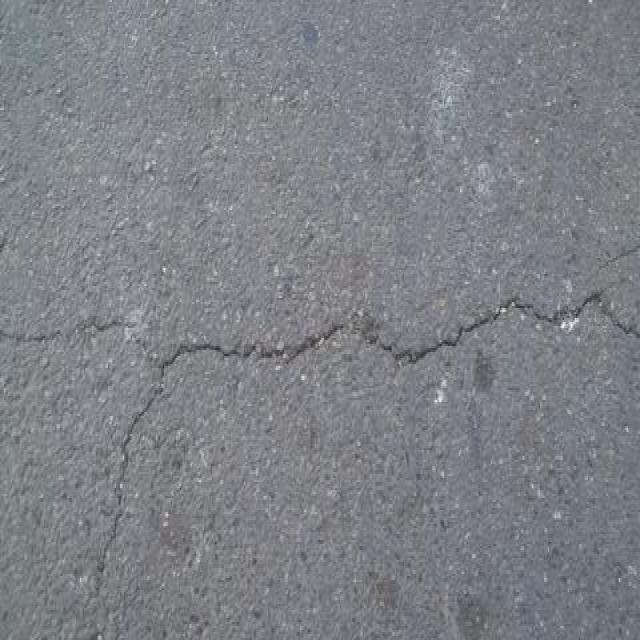Retak-Melintang: (165, 287, 640, 367), (0, 314, 149, 358)
Retak-Memanjang: (94, 368, 164, 593)
